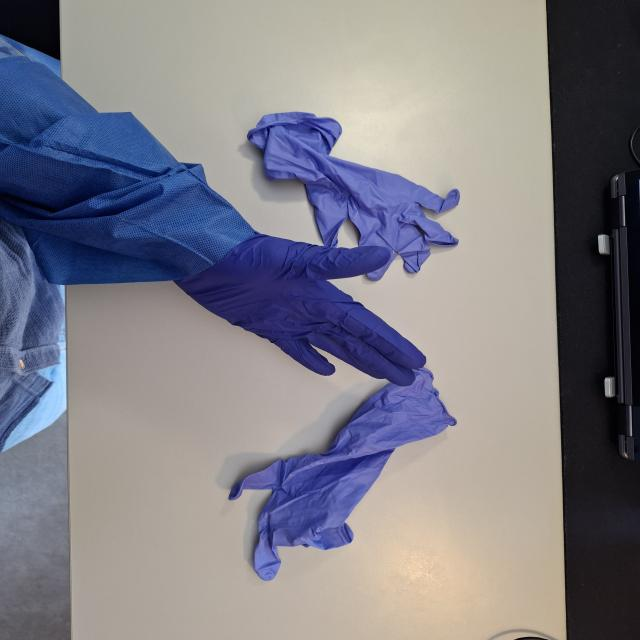glove_on: (161, 230, 429, 389)
